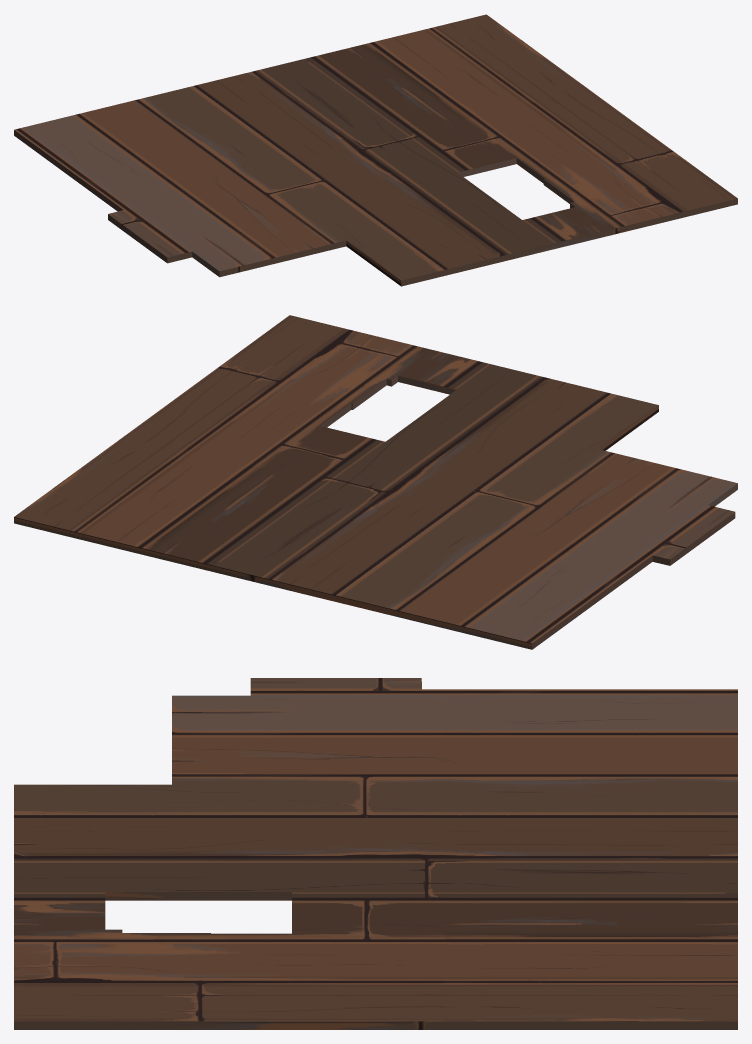
Rendered from MSH_Piso2_Suelo.FBX.
The picture shows the model from 3 angles, top to bottom: view 1: azimuth 30°, elevation 25°; view 2: azimuth 150°, elevation 25°; view 3: azimuth 270°, elevation 25°; orthographic projection. The views are drawn at different scales.
Visible parts, largest first — view 1: MSH_Piso2_Suelo; view 2: MSH_Piso2_Suelo; view 3: MSH_Piso2_Suelo.
Boxes of the visible parts, x1,y1,x2,y2 form: MSH_Piso2_Suelo: (14, 14, 737, 286); MSH_Piso2_Suelo: (14, 315, 737, 649); MSH_Piso2_Suelo: (14, 678, 737, 1029).
Bounding box in the file's own units: 886 × 10.26 × 790.
